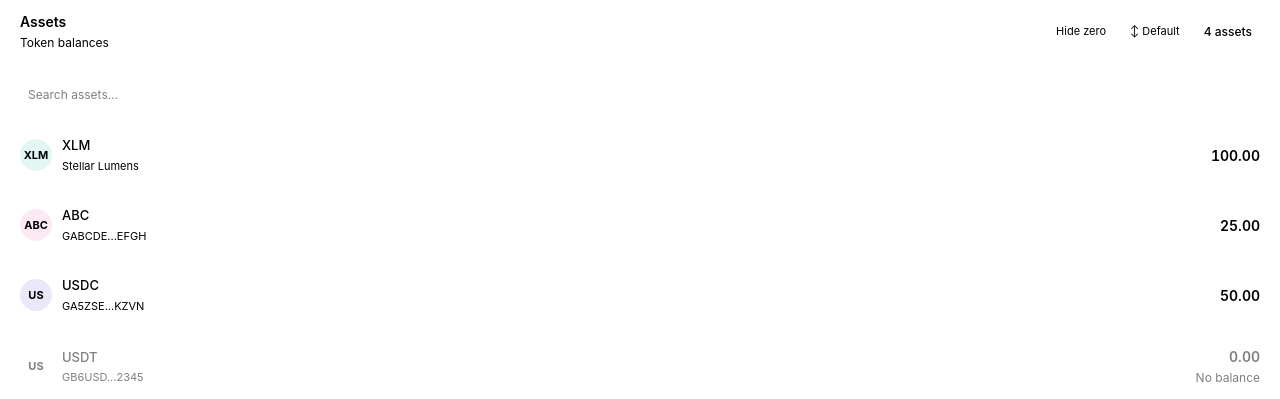
BalanceList › search filter (#352) › shows 'No matching assets' when the search matches nothing
Type "zzz-nonexistent" into the field with placeholder "Search assets…" at (640, 94), box [16, 76, 1264, 112]
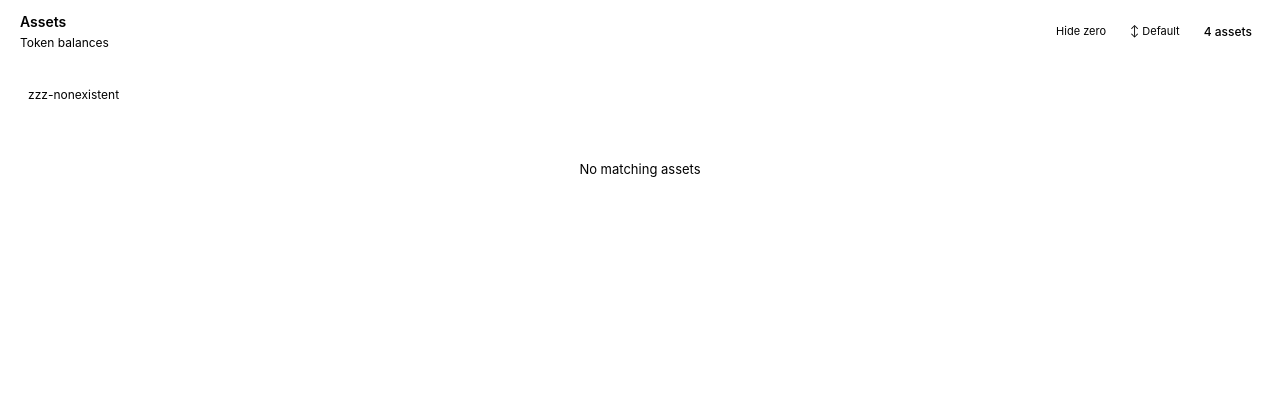
Result: the text "No matching assets" is shown at [579, 160, 701, 180]
